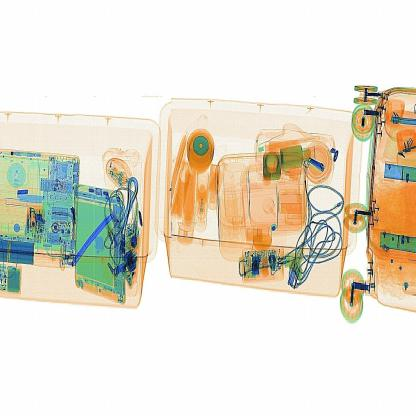pliers: (68, 206, 124, 276)
